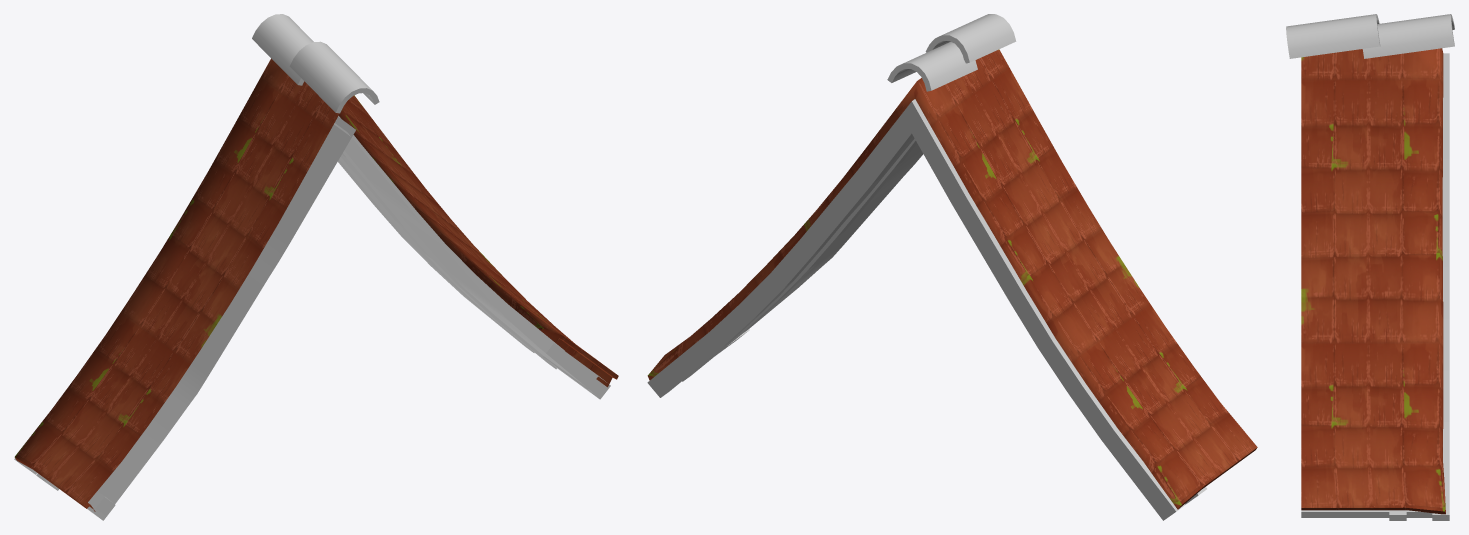
File: Roof_Modular_FlatTiles_6_R.fbx
3 renders of one model, left to right at view 1: azimuth 30°, elevation 25°; view 2: azimuth 150°, elevation 25°; view 3: azimuth 270°, elevation 25°, orthographic. The views are drawn at different scales.
Parts seen in each view (by area): view 1: Roof_Modular_FlatTiles_6_R; view 2: Roof_Modular_FlatTiles_6_R; view 3: Roof_Modular_FlatTiles_6_R.
Part boxes in pixels (x1,y1,x2,y2): Roof_Modular_FlatTiles_6_R: (14,14,618,520); Roof_Modular_FlatTiles_6_R: (647,14,1257,520); Roof_Modular_FlatTiles_6_R: (1286,14,1454,520).
Bounding box in the file's own units: 807 × 567 × 225.
